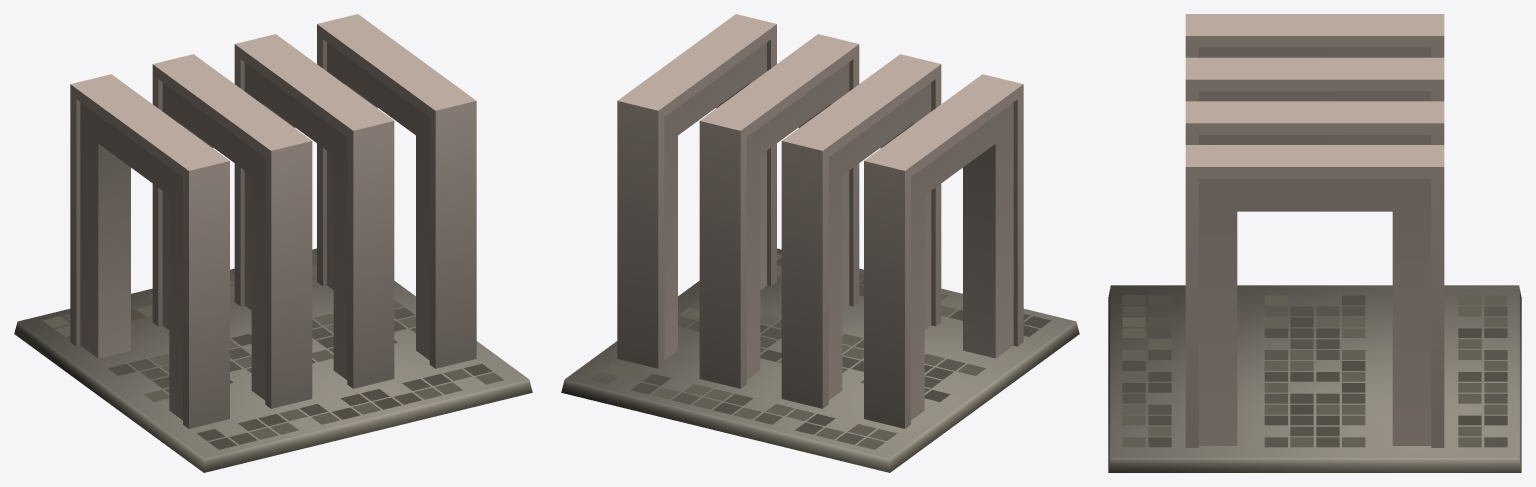
The model's file is Modern_Arch_1A.fbx.
3 renders of one model, left to right at view 1: azimuth 30°, elevation 25°; view 2: azimuth 150°, elevation 25°; view 3: azimuth 270°, elevation 25°, orthographic. The views are drawn at different scales.
Visible parts, largest first — view 1: Modern_Arch_1A; view 2: Modern_Arch_1A; view 3: Modern_Arch_1A.
Boxes of the visible parts, x1=… form: Modern_Arch_1A: x1=14, y1=14, x2=532, y2=472; Modern_Arch_1A: x1=561, y1=14, x2=1079, y2=472; Modern_Arch_1A: x1=1108, y1=14, x2=1521, y2=472.
Bounding box in the file's own units: 800 × 630 × 800.
